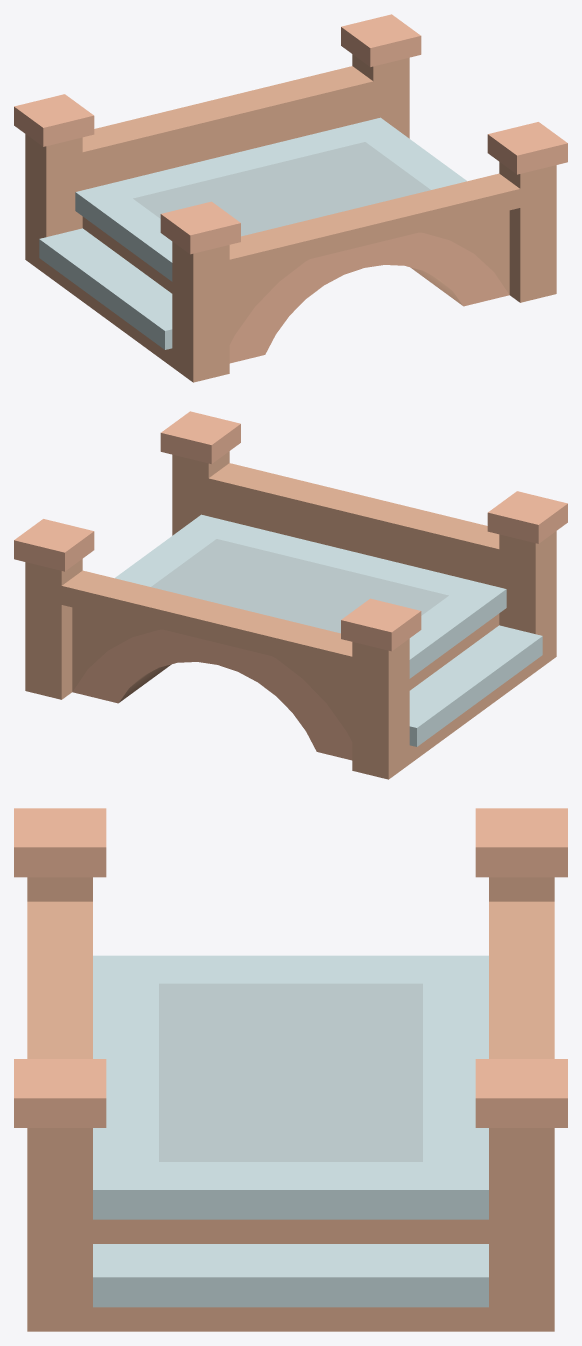
Rendered from bridge_woodRoundNarrow.gltf.
The picture shows the model from 3 angles, top to bottom: view 1: azimuth 30°, elevation 25°; view 2: azimuth 150°, elevation 25°; view 3: azimuth 270°, elevation 25°; orthographic projection. The views are drawn at different scales.
Visible parts, largest first — view 1: bridge_woodRoundNarrow; view 2: bridge_woodRoundNarrow; view 3: bridge_woodRoundNarrow.
Boxes of the visible parts, x1,y1,x2,y2 form: bridge_woodRoundNarrow: [14, 14, 567, 382]; bridge_woodRoundNarrow: [14, 411, 567, 779]; bridge_woodRoundNarrow: [14, 808, 567, 1331].
Bounding box in the file's own units: 1.04 × 0.4 × 0.84.
